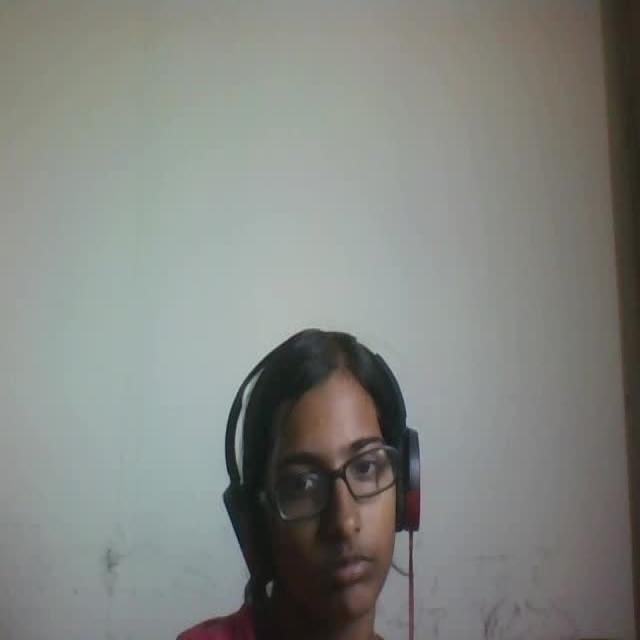Engaged: (199, 314, 459, 640)
